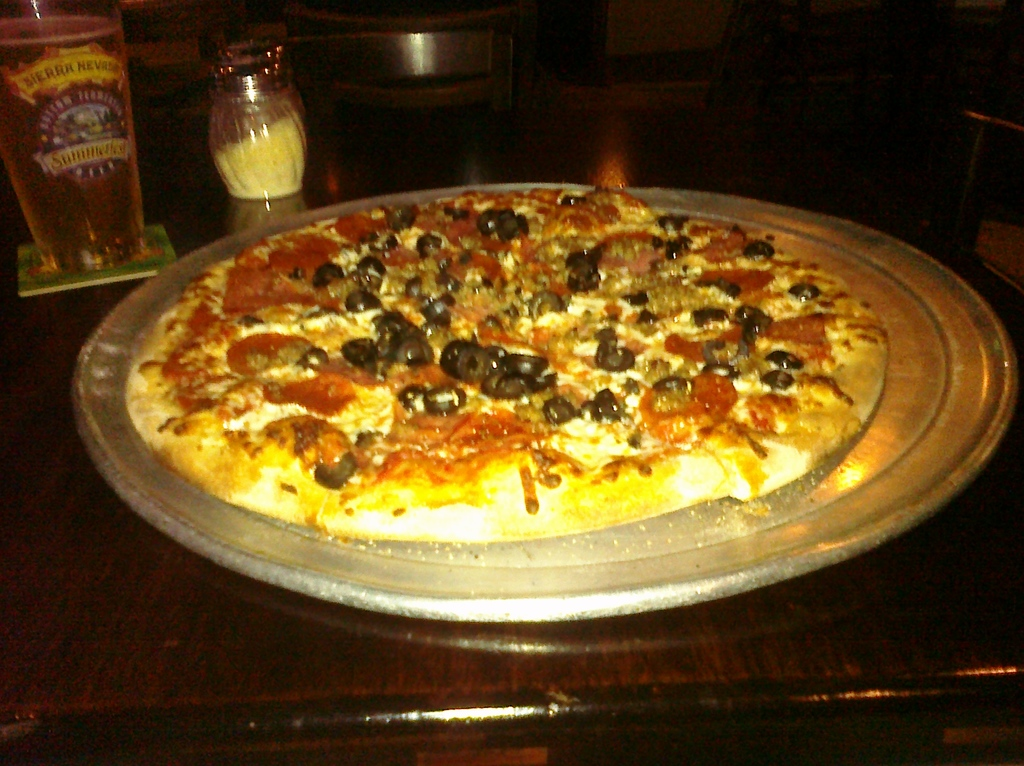Pizza: (108, 177, 908, 555)
